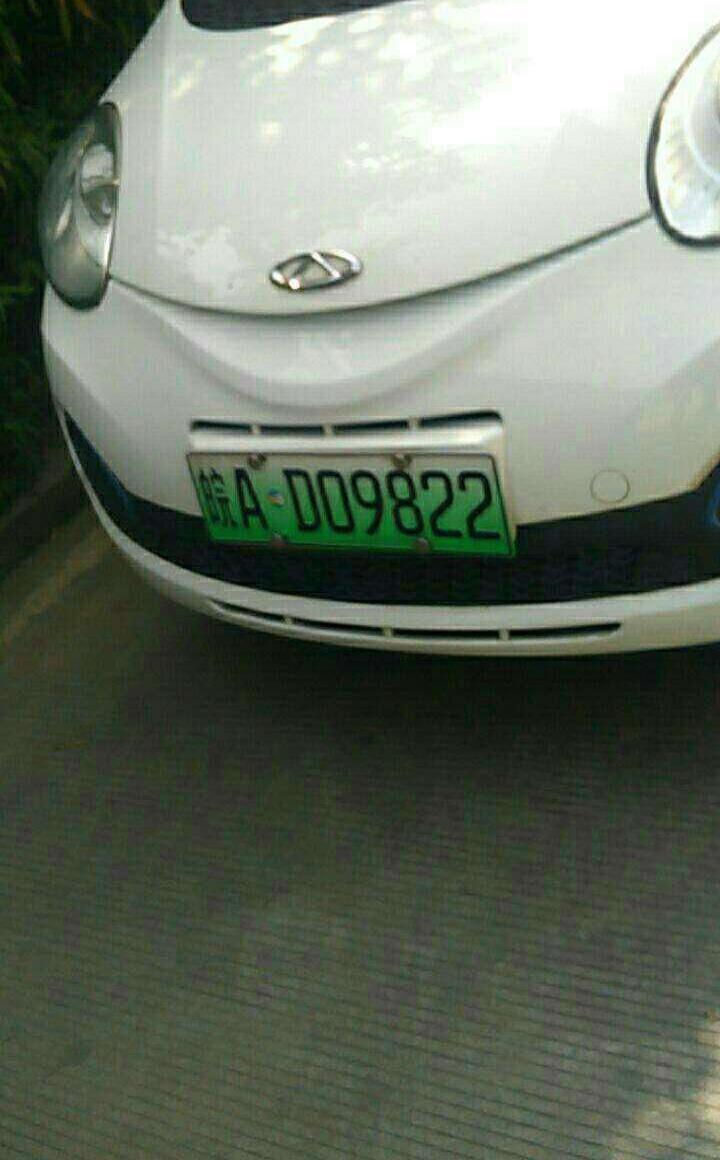car_id: (185, 455, 507, 553)
